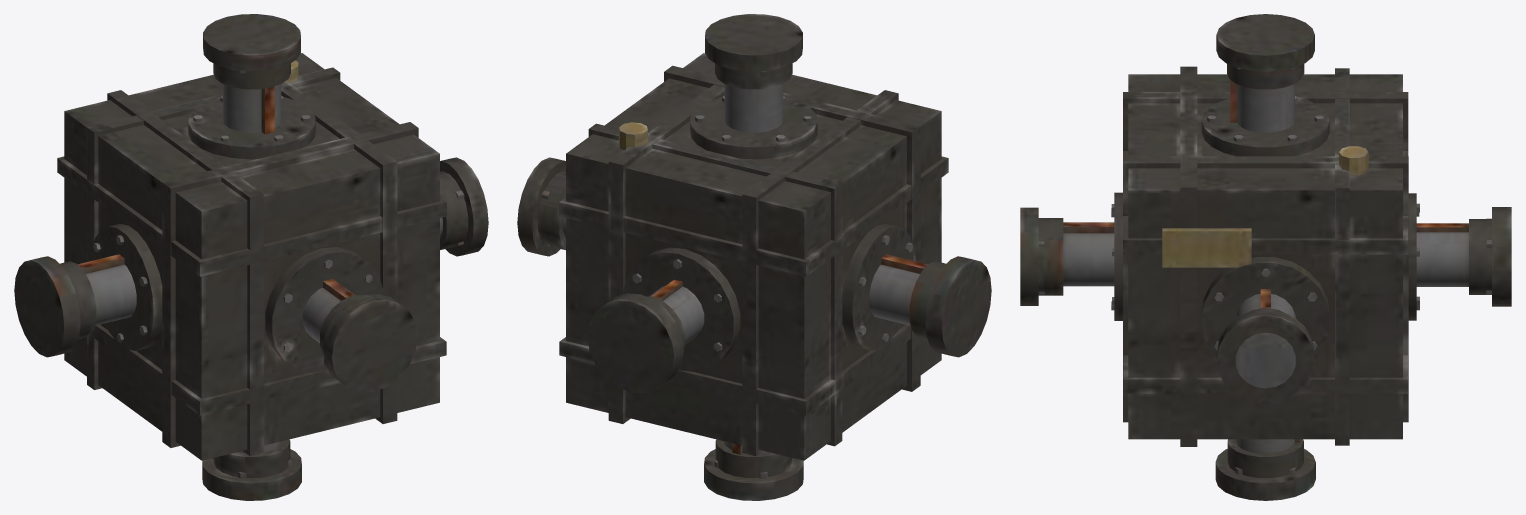
Rendered from feGearbox.glb.
3 views of the same model, side by side, from view 1: azimuth 30°, elevation 25°; view 2: azimuth 150°, elevation 25°; view 3: azimuth 270°, elevation 25° (orthographic).
Parts seen in each view (by area): view 1: feGearbox_Base, FeSpin_Gearbox4, FeSpin_Gearbox2, FeSpin_Gearbox5, FeSpin_Gearbox6, FeSpin_Gearbox3; view 2: feGearbox_Base, FeSpin_Gearbox1, FeSpin_Gearbox4, FeSpin_Gearbox5, FeSpin_Gearbox6, FeSpin_Gearbox3; view 3: feGearbox_Base, FeSpin_Gearbox5, FeSpin_Gearbox3, FeSpin_Gearbox2, FeSpin_Gearbox1, FeSpin_Gearbox6.
Boxes of the visible parts, x1,y1,x2,y2 form: feGearbox_Base: (57, 53, 446, 460); FeSpin_Gearbox4: (14, 254, 136, 357); FeSpin_Gearbox2: (302, 279, 417, 392); FeSpin_Gearbox5: (203, 14, 300, 134); FeSpin_Gearbox6: (202, 439, 301, 500); FeSpin_Gearbox3: (440, 157, 488, 256); feGearbox_Base: (559, 53, 948, 460); FeSpin_Gearbox1: (587, 279, 704, 393); FeSpin_Gearbox4: (869, 254, 991, 357); FeSpin_Gearbox5: (705, 14, 802, 132); FeSpin_Gearbox6: (704, 439, 803, 500); FeSpin_Gearbox3: (517, 157, 565, 256); feGearbox_Base: (1111, 66, 1419, 446); FeSpin_Gearbox5: (1216, 14, 1314, 132); FeSpin_Gearbox3: (1216, 289, 1314, 404); FeSpin_Gearbox2: (1020, 207, 1114, 305); FeSpin_Gearbox1: (1416, 207, 1511, 306); FeSpin_Gearbox6: (1215, 439, 1315, 500).
Size of the model in its own units: 1 by 1 by 1.
Materials: 1 (1 with a texture image).
